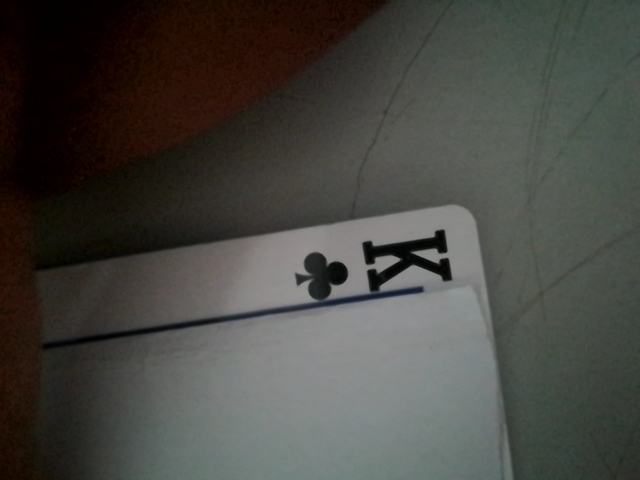mh k: (255, 219, 479, 309)
